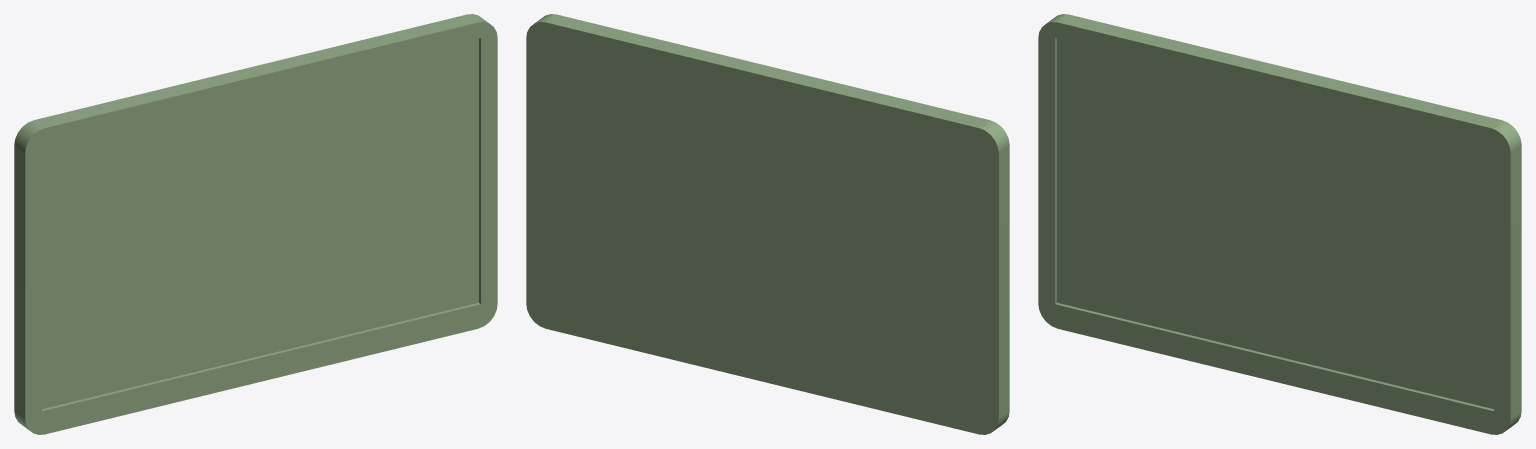
The picture shows the model from 3 angles, left to right: view 1: azimuth 30°, elevation 25°; view 2: azimuth 150°, elevation 25°; view 3: azimuth 330°, elevation 25°; orthographic projection.
Visible parts, largest first — view 1: TV; view 2: TV; view 3: TV.
Part boxes in pixels (x1=…): TV: x1=14, y1=14, x2=497, y2=434; TV: x1=526, y1=14, x2=1009, y2=434; TV: x1=1038, y1=14, x2=1521, y2=434.
Size of the model in its own units: 164 by 102 by 6.58.
